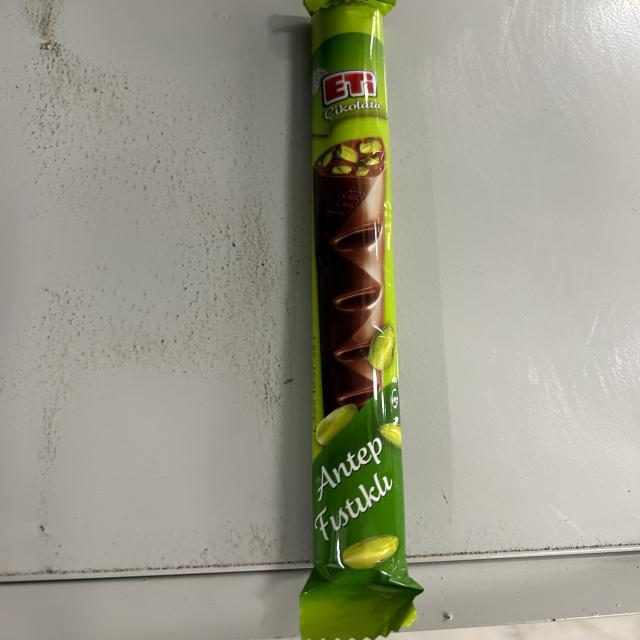object_name: (324, 5, 411, 631)
